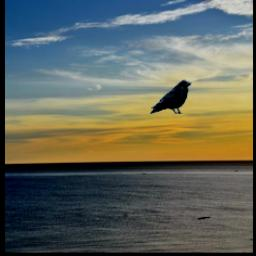Crow: (150, 79, 193, 114)
